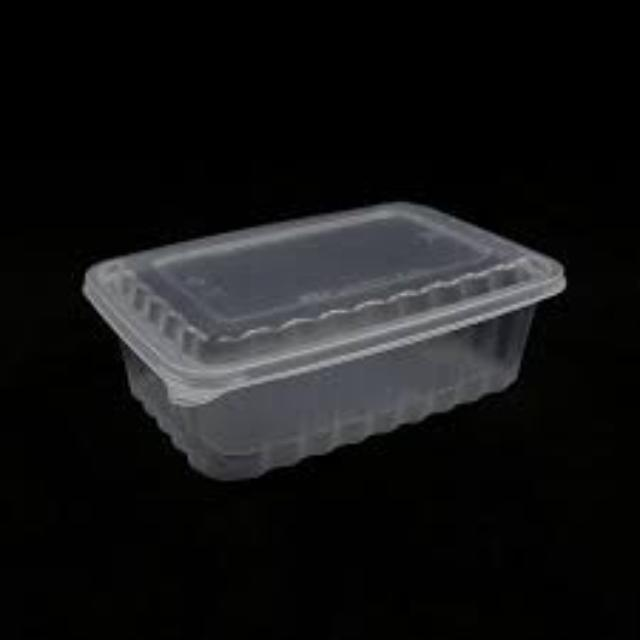Recipiente plastico: (81, 203, 568, 485)
